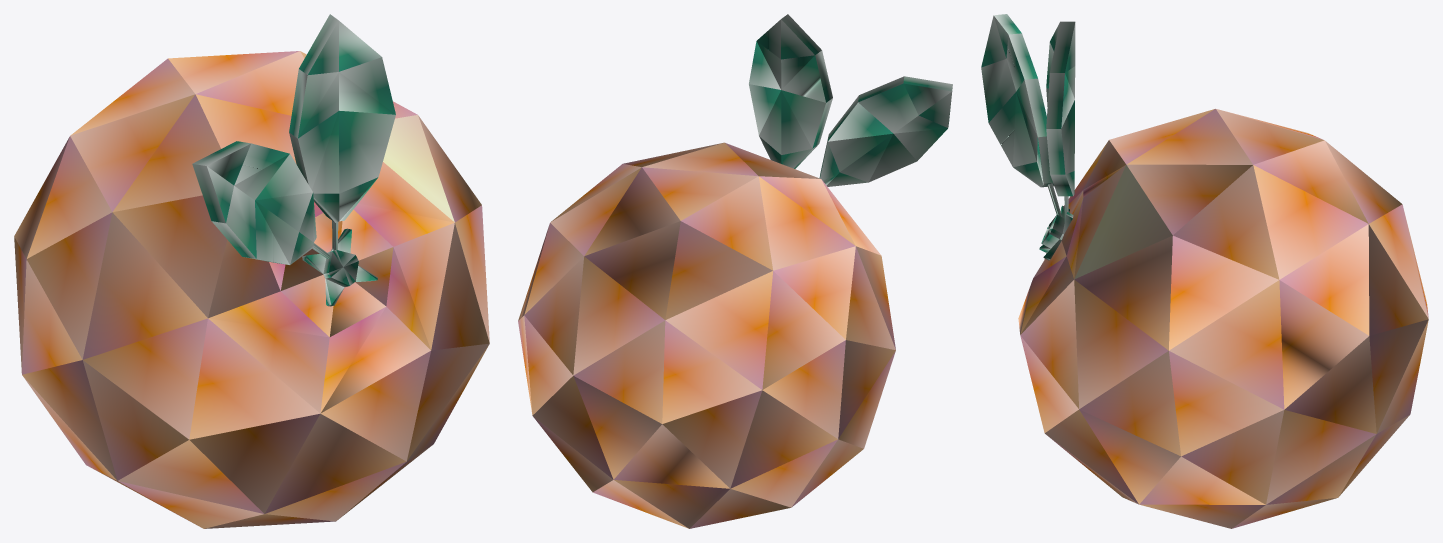
File: orange.fbx
3 renders of one model, left to right at view 1: azimuth 30°, elevation 25°; view 2: azimuth 150°, elevation 25°; view 3: azimuth 270°, elevation 25°, orthographic. The views are drawn at different scales.
Parts seen in each view (by area): view 1: orange; view 2: orange; view 3: orange.
Boxes of the visible parts, <box> form: orange: <box>14,14,489,528</box>; orange: <box>518,14,952,528</box>; orange: <box>981,14,1428,528</box>.
Size of the model in its own units: 87.54 by 113 by 96.23.
